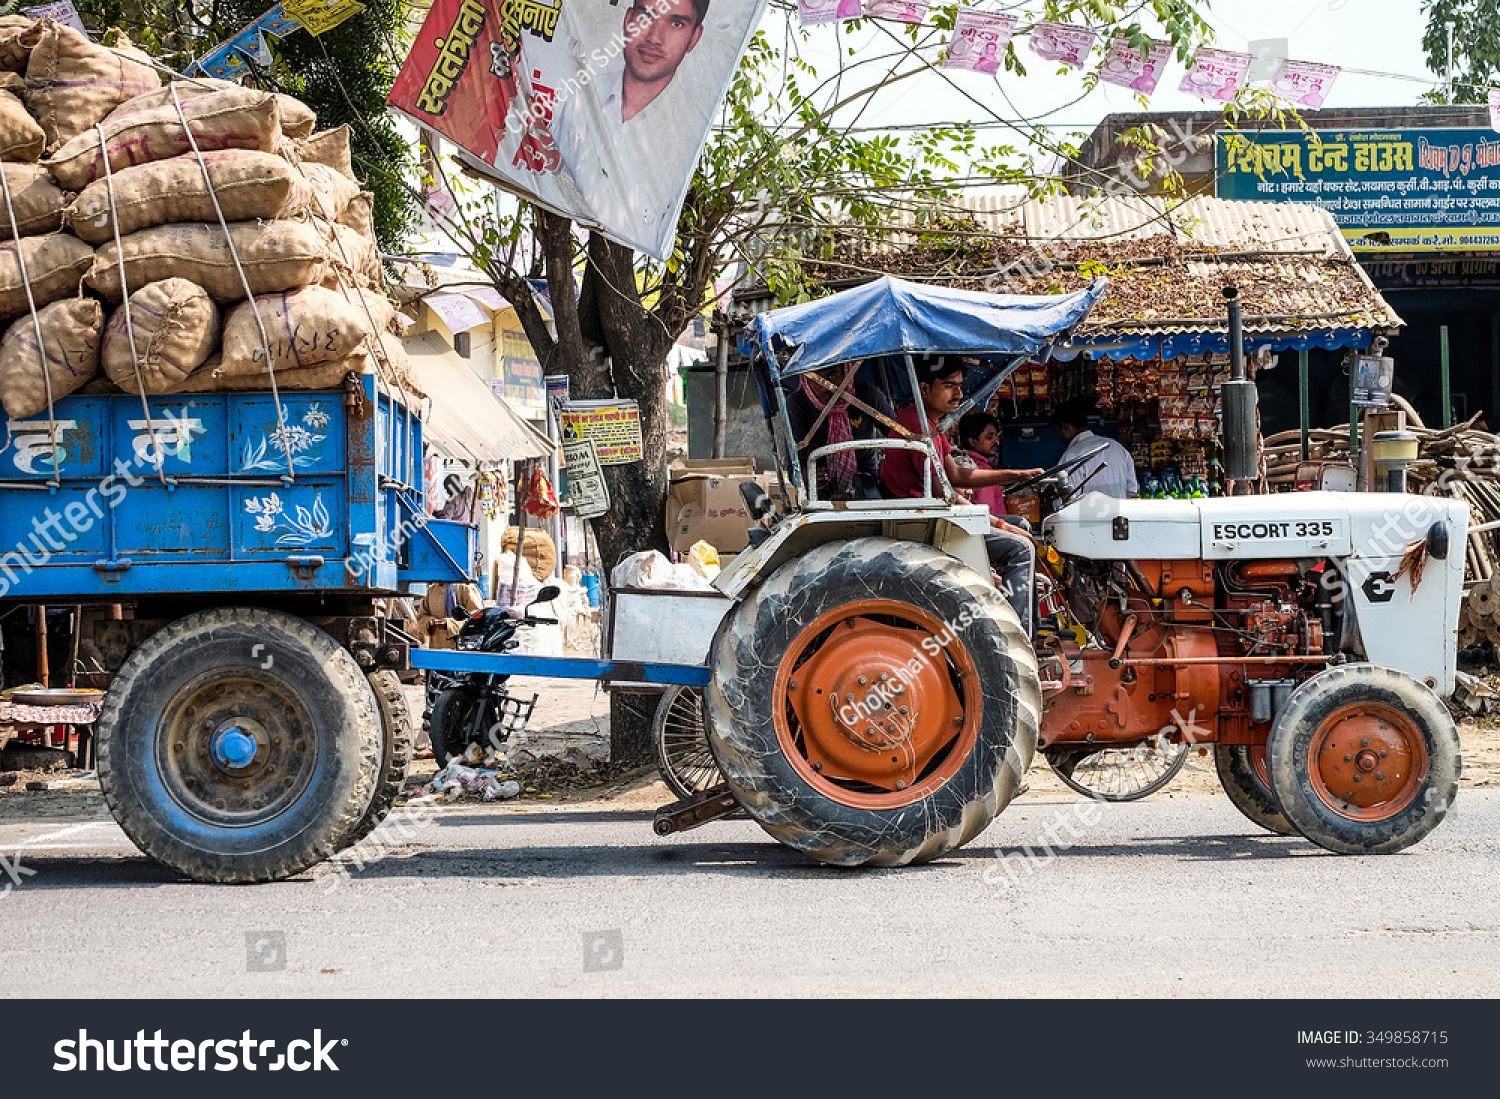wheel: (695, 536, 1049, 870), (91, 602, 402, 889), (1269, 661, 1473, 855)
